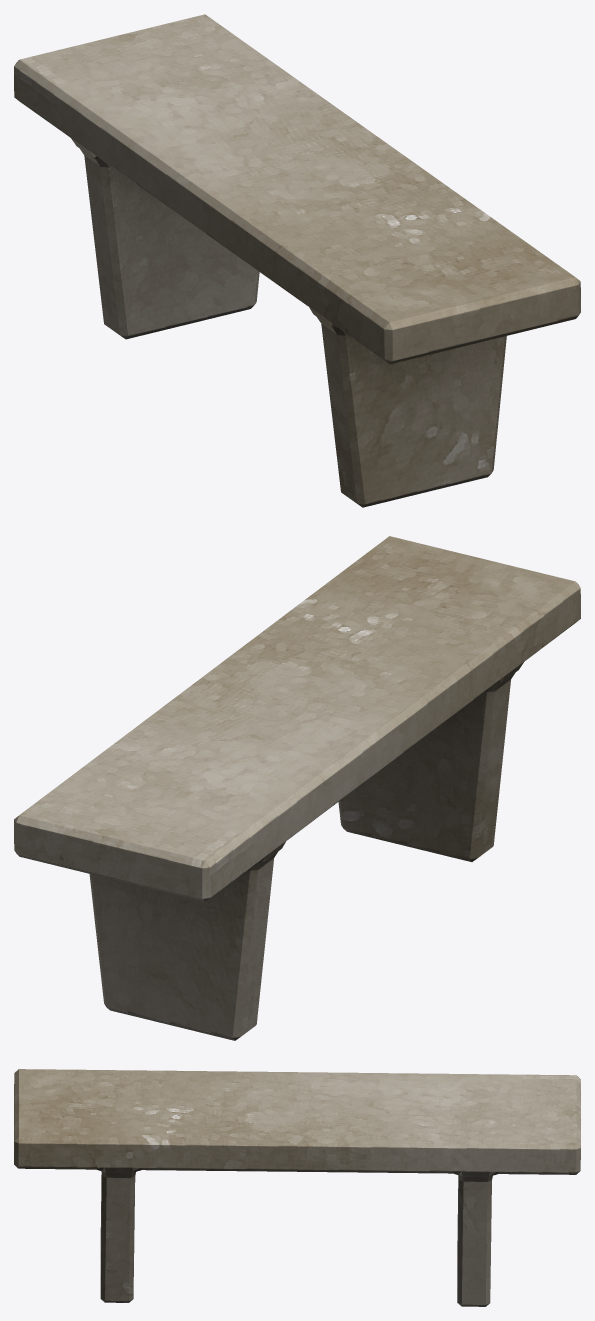
Rendered from chair.fbx.
The picture shows the model from 3 angles, top to bottom: view 1: azimuth 30°, elevation 25°; view 2: azimuth 150°, elevation 25°; view 3: azimuth 270°, elevation 25°; orthographic projection. The views are drawn at different scales.
Parts seen in each view (by area): view 1: bench01; view 2: bench01; view 3: bench01.
Boxes of the visible parts, x1,y1,x2,y2 form: bench01: (14, 14, 580, 507); bench01: (14, 536, 580, 1040); bench01: (14, 1069, 580, 1306).
Bounding box in the file's own units: 46.14 × 53.86 × 153.
